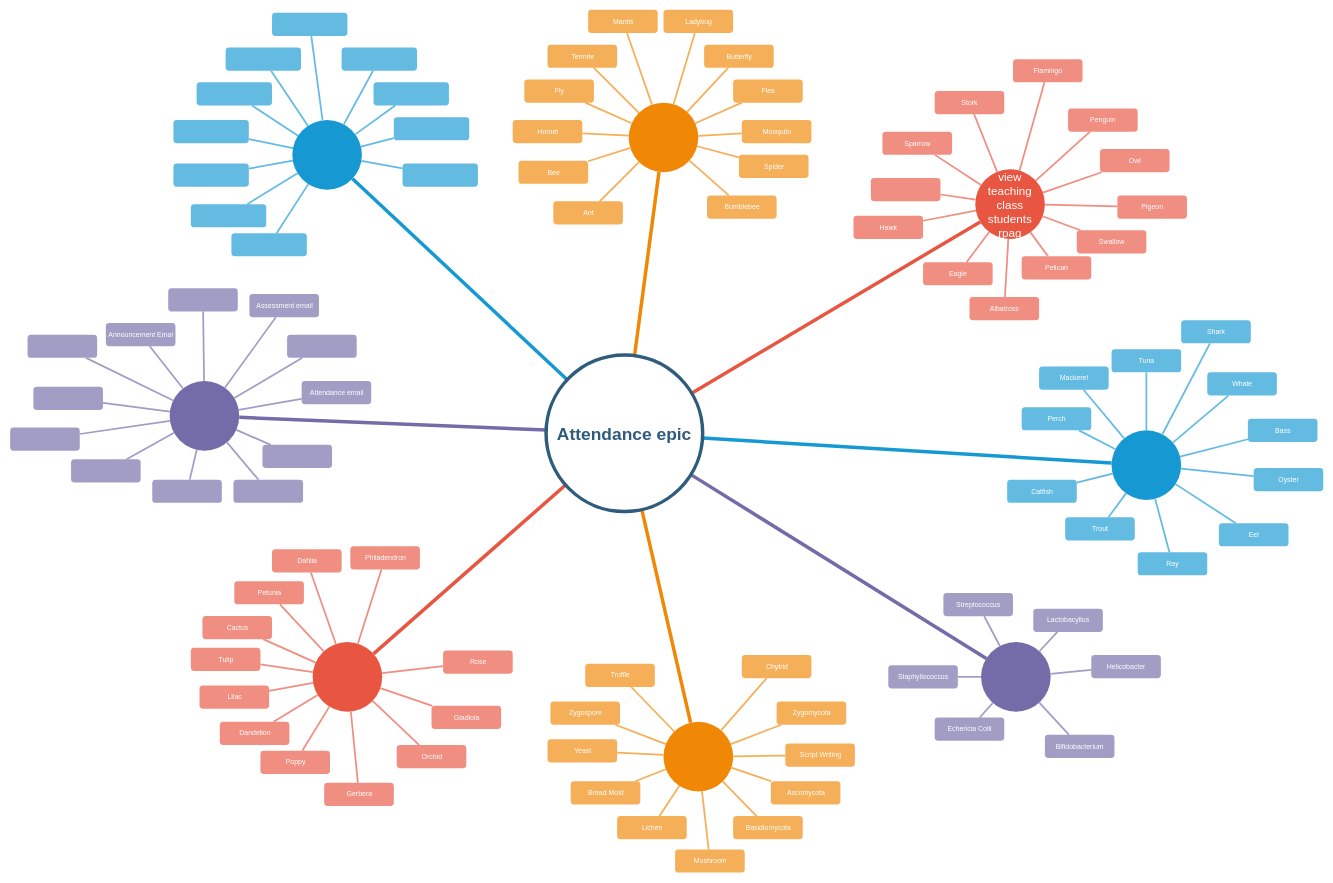
Some shapes in this 1333 by 883 pixel diagram are drawn without their labels. Here are the shapes that lost their labels. From the top down, the centre of each, then its label:
At (x=327, y=154): "View teaching classes".
At (x=663, y=137): "view teaching class students".
At (x=905, y=189): "Falcon".
At (x=204, y=415): "Email students".
At (x=1146, y=465): "take attendance".
At (x=347, y=676): "select/deselect students".
At (x=1015, y=676): "add attendance comment".
At (x=698, y=756): "update saved attendance".
